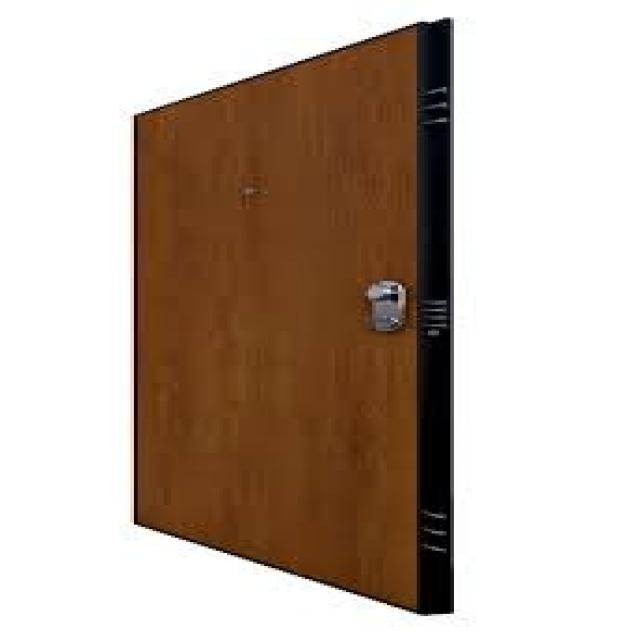door: (130, 17, 454, 614)
